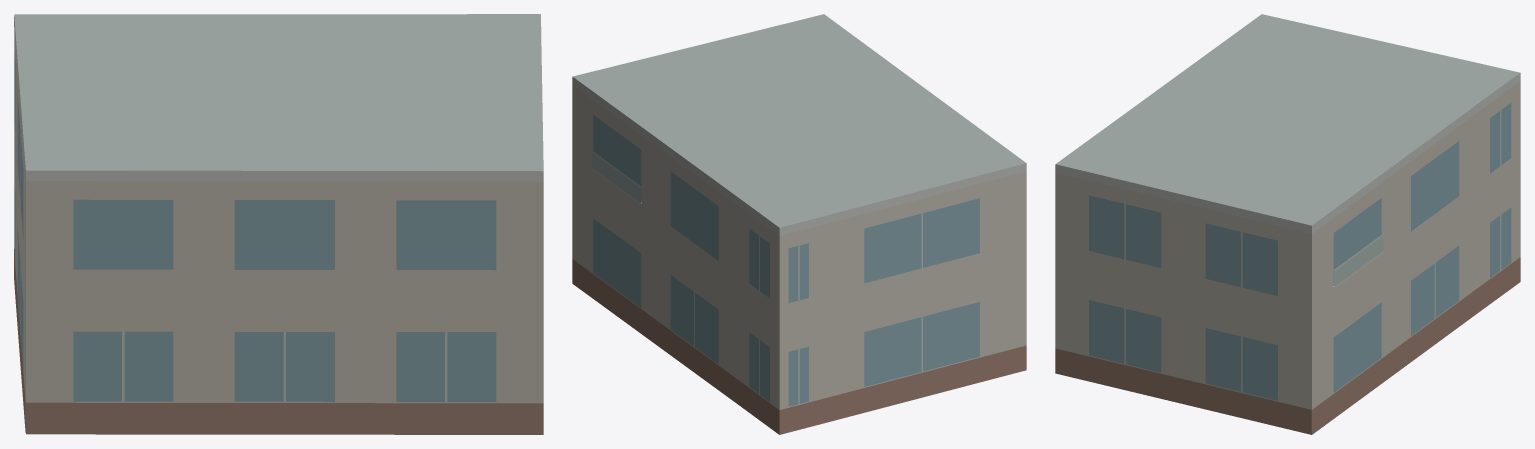
Rendered from survey-upis-32744797.glb.
3 views of the same model, side by side, from view 1: azimuth 30°, elevation 25°; view 2: azimuth 150°, elevation 25°; view 3: azimuth 270°, elevation 25° (orthographic). The views are drawn at different scales.
Parts seen in each view (by area): view 1: survey-upis-32744797.tmp; view 2: survey-upis-32744797.tmp; view 3: survey-upis-32744797.tmp.
Boxes of the visible parts, x1,y1,x2,y2 form: survey-upis-32744797.tmp: (14, 14, 543, 434); survey-upis-32744797.tmp: (572, 14, 1026, 434); survey-upis-32744797.tmp: (1055, 14, 1520, 434).
Bounding box in the file's own units: 13.24 × 6.1 × 12.3.
